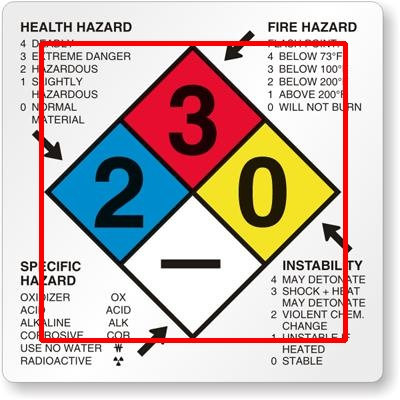nfpa: (41, 43, 345, 340)
